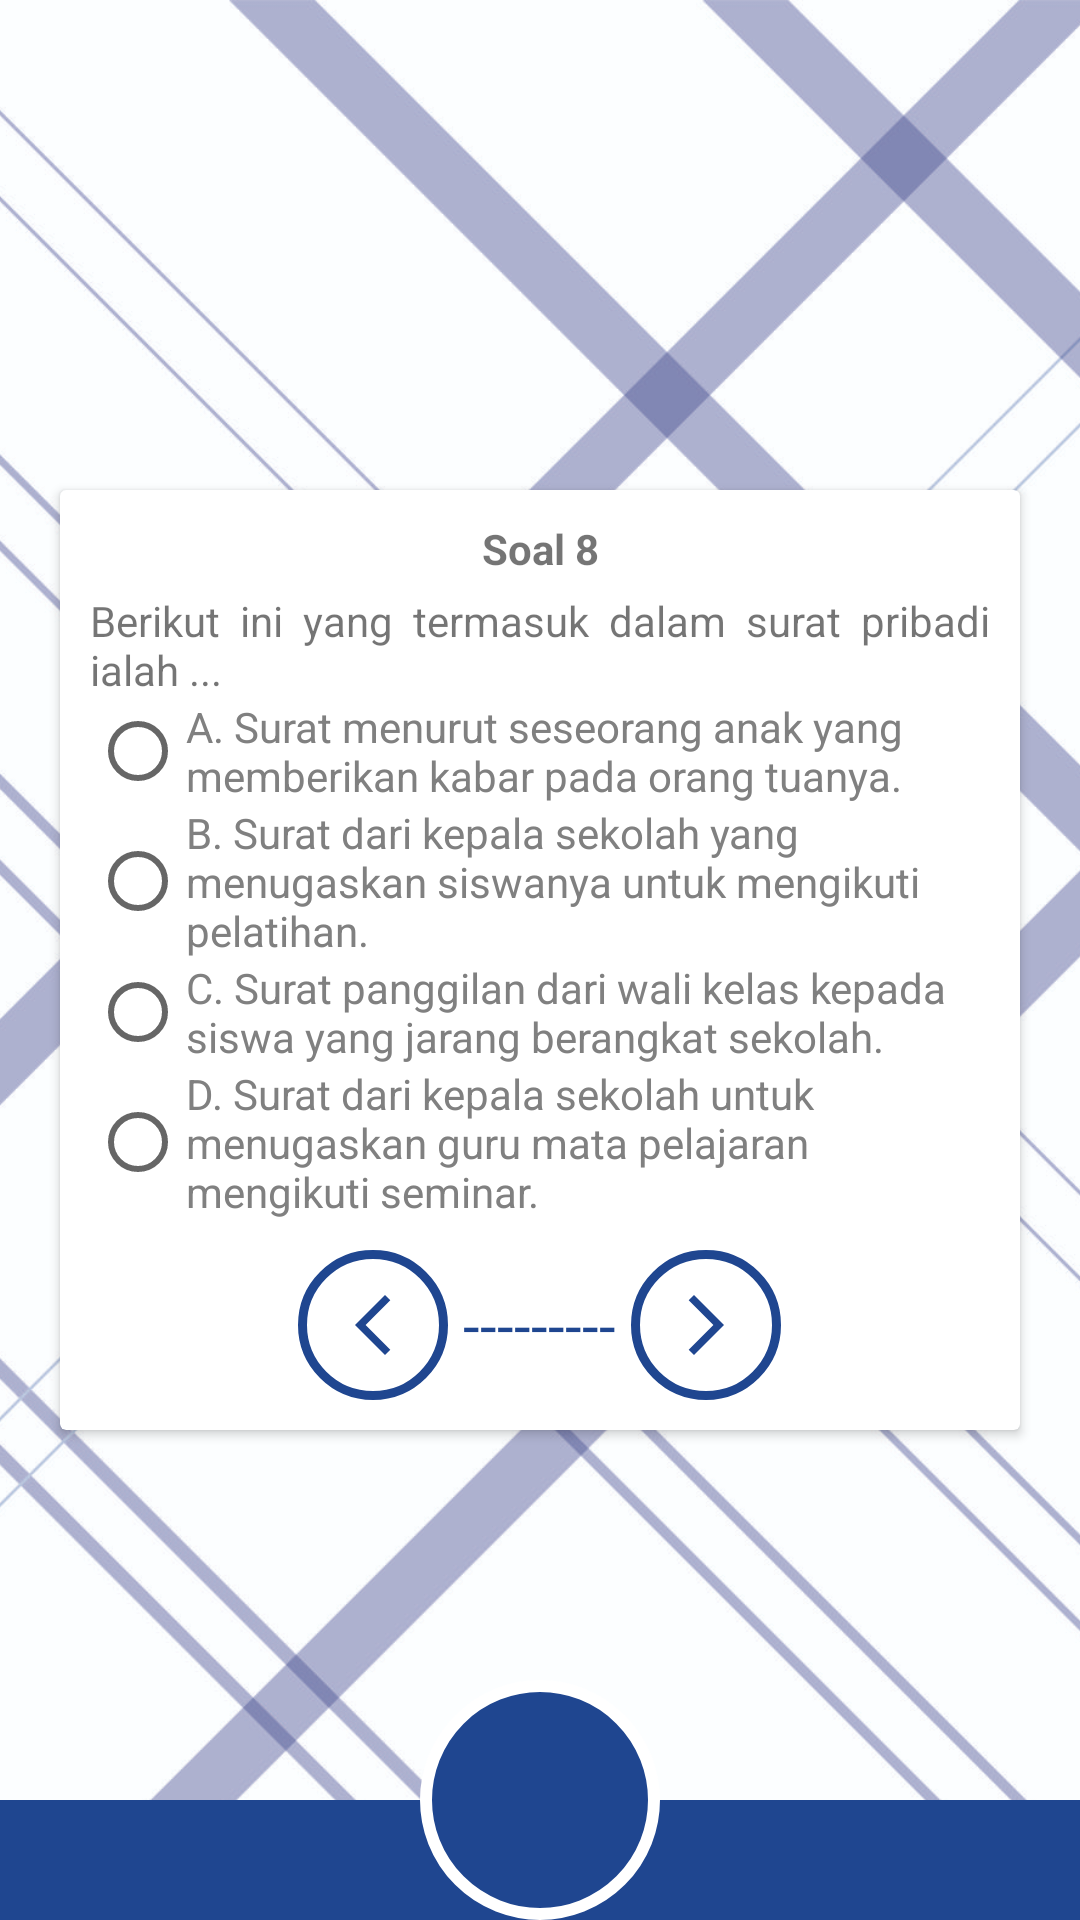

Named icons in this screenshot (1080px x 1920px) and their centers, (x,y):
arrow back: (373,1325)
arrow forward: (706,1325)
